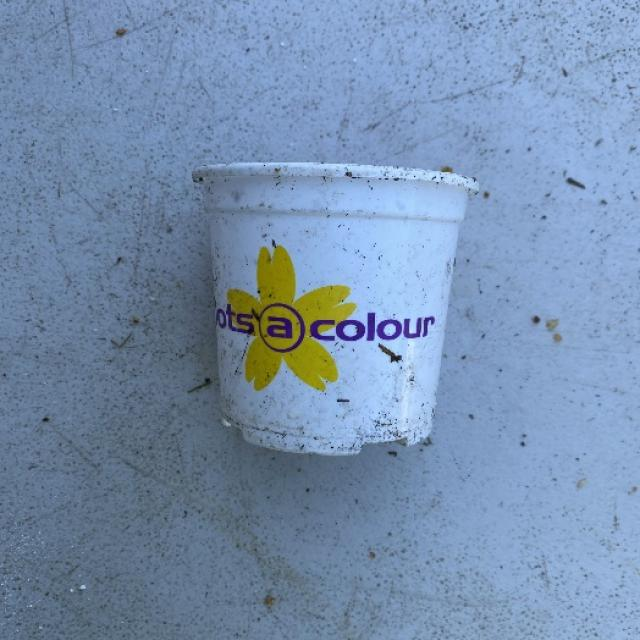inorganic: (196, 155, 480, 457)
